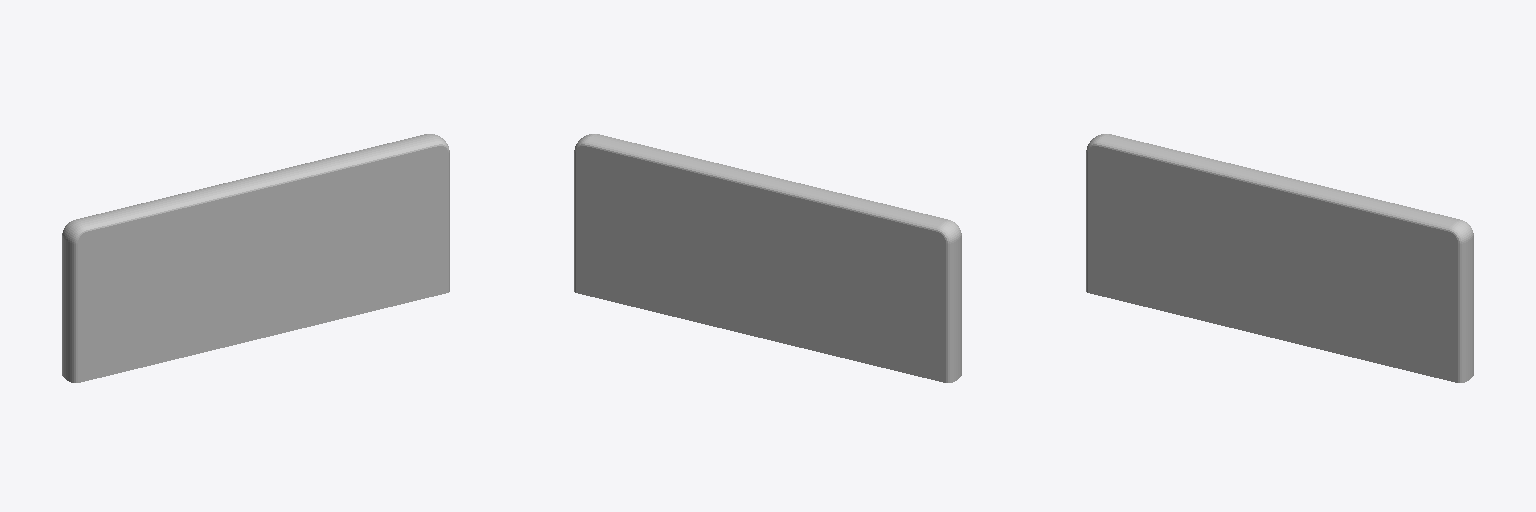
The model's file is original-2.obj.
The picture shows the model from 3 angles: view 1: azimuth 30°, elevation 25°; view 2: azimuth 150°, elevation 25°; view 3: azimuth 330°, elevation 25°; orthographic projection.
Visible parts, largest first — view 1: Group3/mesh1/mesh1-geometry#mesh1-geometry; view 2: Group3/mesh1/mesh1-geometry#mesh1-geometry; view 3: Group3/mesh1/mesh1-geometry#mesh1-geometry.
Part boxes in pixels (bbox=[...]): Group3/mesh1/mesh1-geometry#mesh1-geometry: bbox=[62, 134, 449, 382]; Group3/mesh1/mesh1-geometry#mesh1-geometry: bbox=[574, 134, 961, 382]; Group3/mesh1/mesh1-geometry#mesh1-geometry: bbox=[1086, 134, 1473, 382].
Size of the model in its own units: 1.2 by 0.4638 by 0.0748.